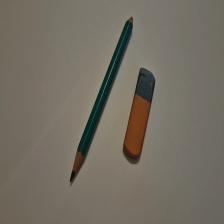eraser: (124, 68, 156, 159)
pencil: (71, 17, 134, 183)
